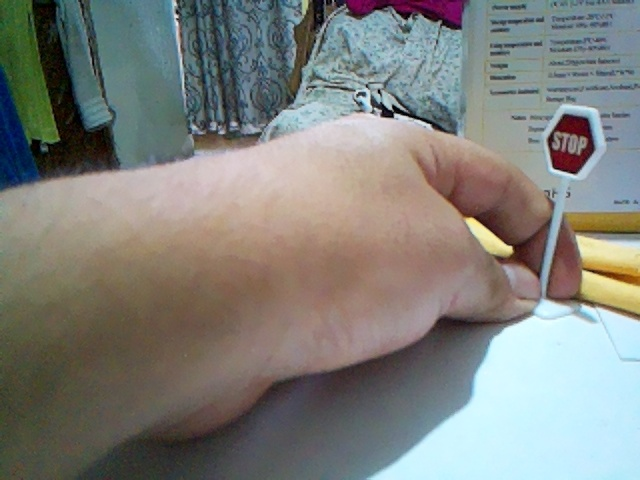stop_sign: (543, 105, 605, 177)
